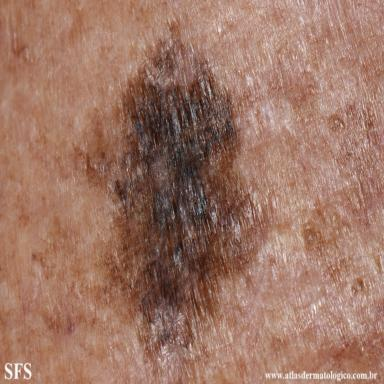Melanoma: (73, 24, 265, 381)
